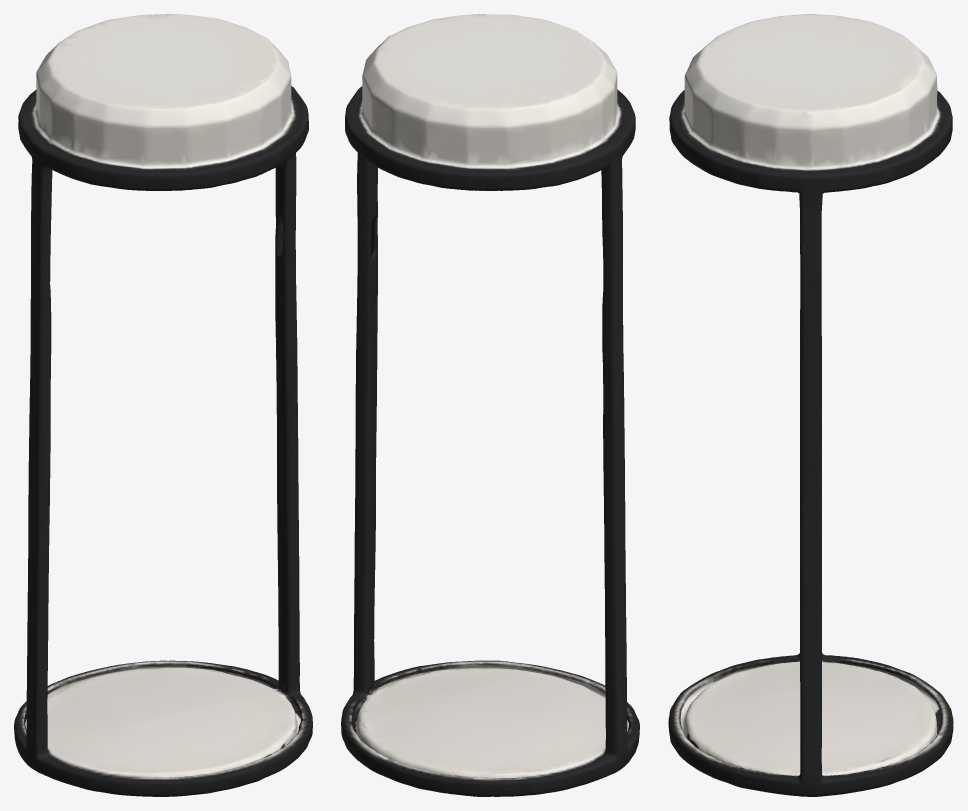
File: product-mid-century-modern-jennibelle-marble-and-mirror-drink-table-10.glb
The picture shows the model from 3 angles, left to right: view 1: azimuth 30°, elevation 25°; view 2: azimuth 150°, elevation 25°; view 3: azimuth 270°, elevation 25°; orthographic projection.
Visible parts, largest first — view 1: geometry_0; view 2: geometry_0; view 3: geometry_0.
Boxes of the visible parts, x1=… form: geometry_0: x1=14, y1=14, x2=312, y2=796; geometry_0: x1=341, y1=14, x2=639, y2=796; geometry_0: x1=668, y1=14, x2=953, y2=796.
Size of the model in its own units: 0.8133 by 1.97 by 0.7595.
1 material, 1 textured.
